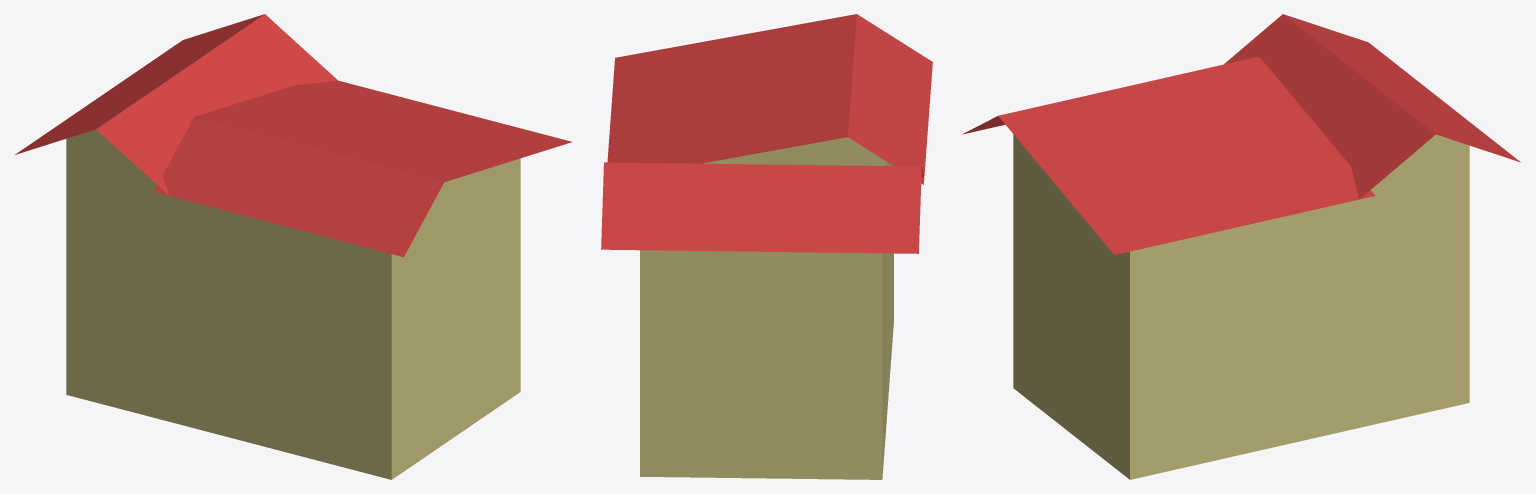
3 renders of one model, left to right at view 1: azimuth 30°, elevation 25°; view 2: azimuth 150°, elevation 25°; view 3: azimuth 270°, elevation 25°, orthographic.
Size of the model in its own units: 9.86 by 10.97 by 6.37.
